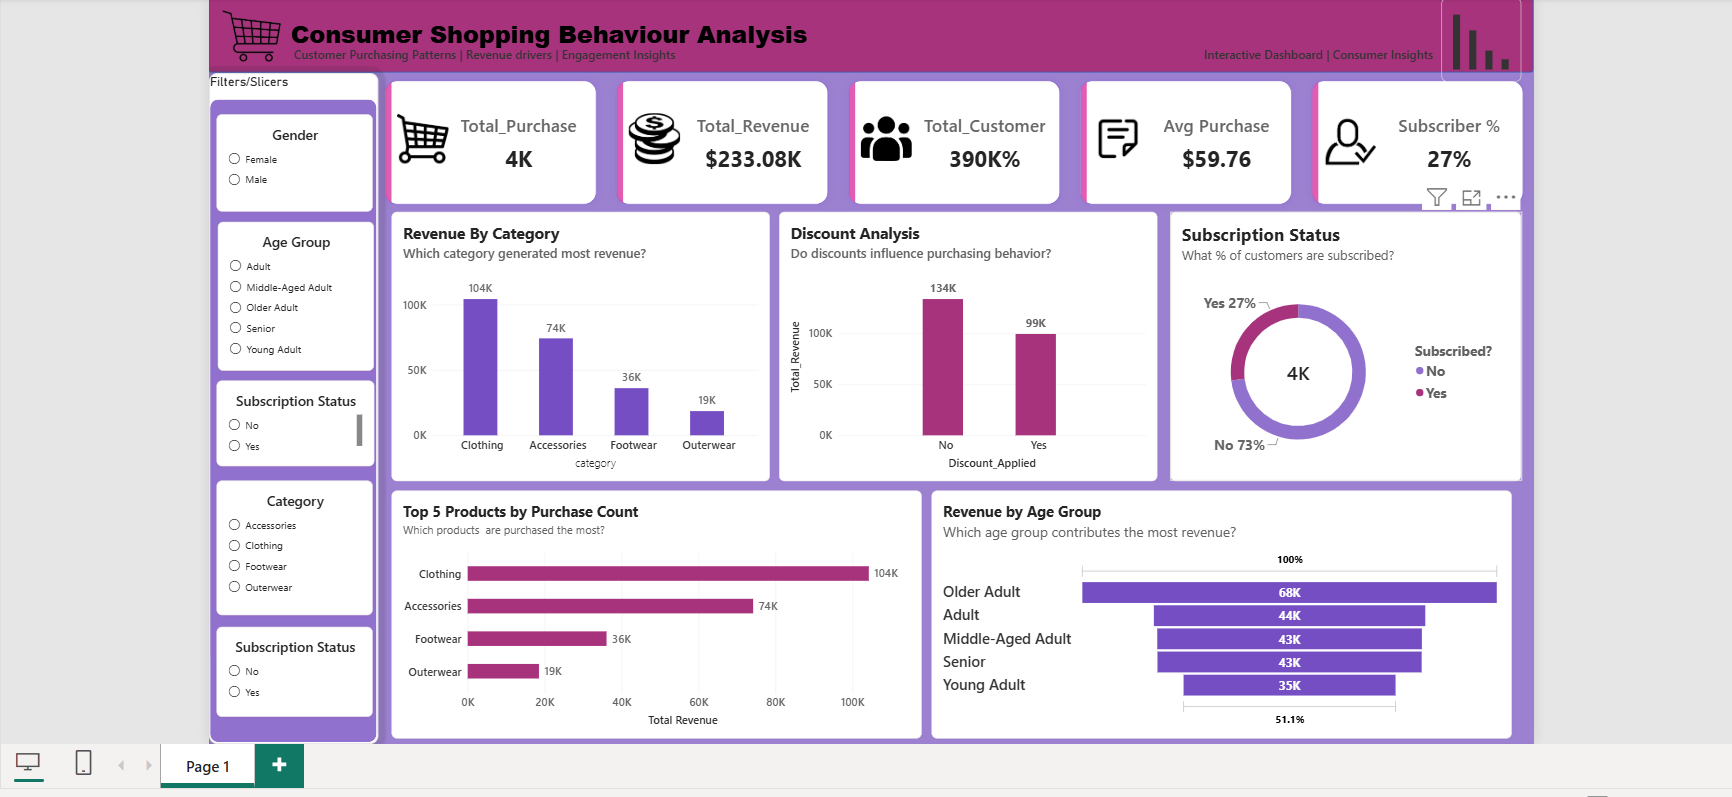

The dashboard page shown, as its layout file describes it:
{"tool":"powerbi","page":{"name":"Page 1","canvas":[1926,1085],"ordinal":0},"visuals":[{"type":"cardVisual","fields":{"Data":["public customer.total_purchase","public customer.total_revenue","public customer.total_customer","public customer.avg_purchase","public customer.Subscriber %"]},"box":[246,108.4,1680.4,202.2],"z":0},{"type":"clusteredColumnChart","title":"Revenue By Category","fields":{"Category":["public customer.category"],"Y":["public customer.total_revenue"]},"box":[264.8,310.6,550.4,392],"z":1000},{"type":"donutChart","title":"Subscription Status","fields":{"Category":["public customer.subscription_status"],"Y":["public customer.total_purchase"]},"box":[1399,310.6,510.8,392],"z":2000},{"type":"clusteredBarChart","title":"Top 5 Products by Purchase Count","fields":{"Category":["public customer.category"],"Y":["public customer.total_revenue"]},"box":[264.8,717.2,771.4,360.7],"z":3000},{"type":"funnel","title":"Revenue by Age Group","fields":{"Category":["public customer.age_grp"],"Y":["public customer.total_revenue"]},"box":[1050.8,717.2,844.4,360.7],"z":4000},{"type":"clusteredColumnChart","title":"Discount Analysis","fields":{"Category":["public customer.discount_applied"],"Y":["public customer.total_revenue"]},"box":[829.8,310.6,550.4,392],"z":5000},{"type":"shape","box":[0,0,1926.4,108.4],"z":6000},{"type":"textbox","title":"Consumer Shopping Behaviour Analysis","box":[110.9,27.3,767.2,54.5],"z":7000},{"type":"shape","title":"Filters/Slicers","box":[0,108.4,246,975.7],"z":8000},{"type":"listSlicer","title":"Gender","fields":{"Values":["public customer.gender"]},"box":[10.4,168.9,227.3,141.8],"z":9000},{"type":"listSlicer","title":"Subscription Status","fields":{"Values":["public customer.subscription_status"]},"box":[10.4,556.7,229.3,125.1],"z":10000},{"type":"listSlicer","title":"Age Group","fields":{"Values":["public customer.age_grp"]},"box":[12.5,325.2,227.3,216.8],"z":11000},{"type":"listSlicer","title":"Category","fields":{"Values":["public customer.category"]},"box":[10.4,702.6,227.3,196],"z":12000},{"type":"listSlicer","title":"Subscription Status","fields":{"Values":["public customer.subscription_status"]},"box":[10.4,915.3,227.3,131.3],"z":13000},{"type":"image","box":[0,0,123.6,109.1],"z":14000},{"type":"textbox","box":[123.6,70.9,867.2,30.9],"z":15000},{"type":"textbox","box":[1447.2,70.9,361.8,38.2],"z":16000},{"type":"columnChart","fields":{"Category":["public customer.category"],"Y":["public customer.total_purchase"]},"box":[1792.6,0,116.4,121.8],"z":17000}]}

Visuals, with their boxes in screenshot pixels (x1, y1, x2, y2):
cardVisual - public customer.total_purchase x public customer.total_revenue: detection(375, 67, 1551, 208)
"Revenue By Category" clusteredColumnChart: detection(388, 208, 774, 483)
"Subscription Status" donutChart: detection(1182, 208, 1540, 483)
"Top 5 Products by Purchase Count" clusteredBarChart: detection(388, 493, 928, 745)
"Revenue by Age Group" funnel: detection(938, 493, 1529, 745)
"Discount Analysis" clusteredColumnChart: detection(784, 208, 1169, 483)
shape: detection(203, 0, 1551, 67)
"Consumer Shopping Behaviour Analysis" textbox: detection(281, 10, 818, 48)
"Filters/Slicers" shape: detection(203, 67, 375, 750)
"Gender" listSlicer: detection(210, 109, 369, 208)
"Subscription Status" listSlicer: detection(210, 381, 371, 468)
"Age Group" listSlicer: detection(212, 219, 371, 370)
"Category" listSlicer: detection(210, 483, 369, 620)
"Subscription Status" listSlicer: detection(210, 632, 369, 723)
image: detection(203, 0, 289, 67)
textbox: detection(289, 41, 896, 62)
textbox: detection(1216, 41, 1469, 67)
columnChart - public customer.category x public customer.total_purchase: detection(1458, 0, 1539, 76)
